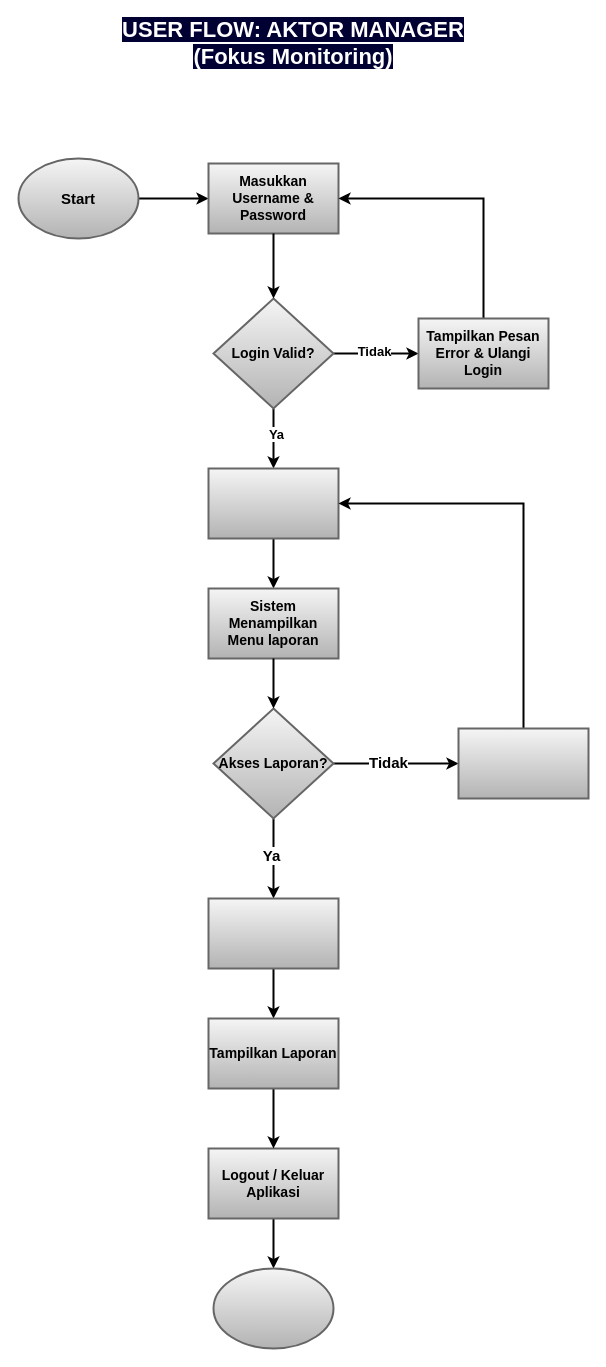
This 606x1367 diagram has some shape labels left out. Each missing label, with the centre of its shape:
End: (x=273, y=1308)
Masuk Ke Halaman Dashboard Utama: (x=273, y=503)
Pantau Laporan Stok / Diskon & Rekap Keuangan: (x=273, y=933)
Tutup Laporan: (x=523, y=763)
